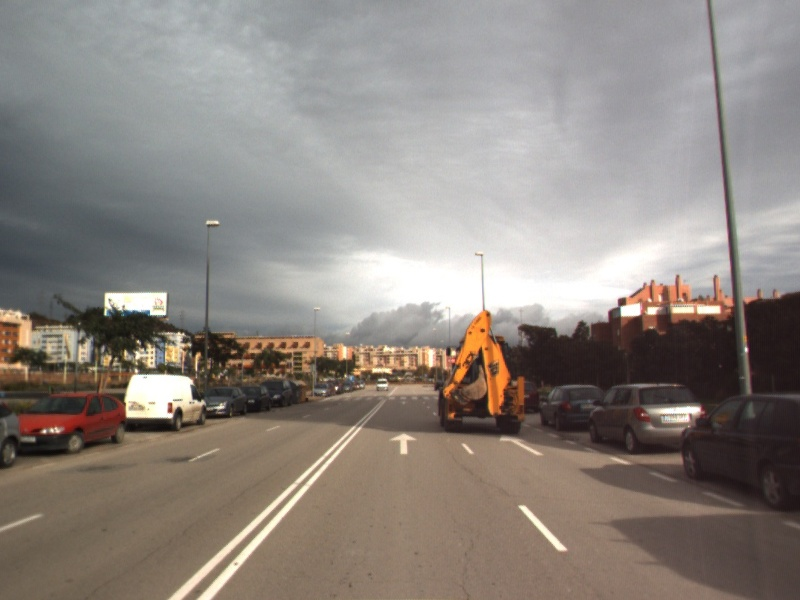STRAIGHT: (497, 432, 547, 457), (388, 431, 419, 456)
